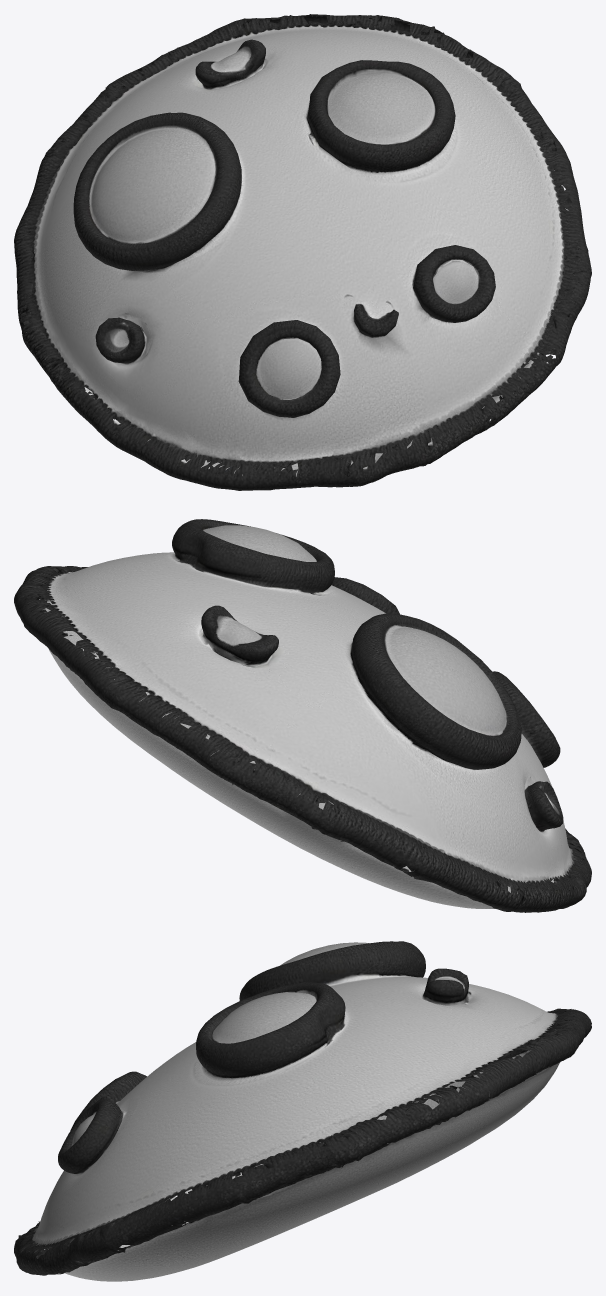
File: moon.glb
3 renders of one model, top to bottom at view 1: azimuth 30°, elevation 25°; view 2: azimuth 150°, elevation 25°; view 3: azimuth 270°, elevation 25°, orthographic. The views are drawn at different scales.
Visible parts, largest first — view 1: tripo_node_8c1c7692-00c4-4aee-962a-b272e9d83a7a; view 2: tripo_node_8c1c7692-00c4-4aee-962a-b272e9d83a7a; view 3: tripo_node_8c1c7692-00c4-4aee-962a-b272e9d83a7a.
Boxes of the visible parts, <box> form: tripo_node_8c1c7692-00c4-4aee-962a-b272e9d83a7a: <box>14,14,591,490</box>; tripo_node_8c1c7692-00c4-4aee-962a-b272e9d83a7a: <box>14,519,591,912</box>; tripo_node_8c1c7692-00c4-4aee-962a-b272e9d83a7a: <box>14,941,591,1281</box>.
Size of the model in its own units: 0.9759 by 0.6105 by 0.9687.
Materials: 1 (1 with a texture image).
